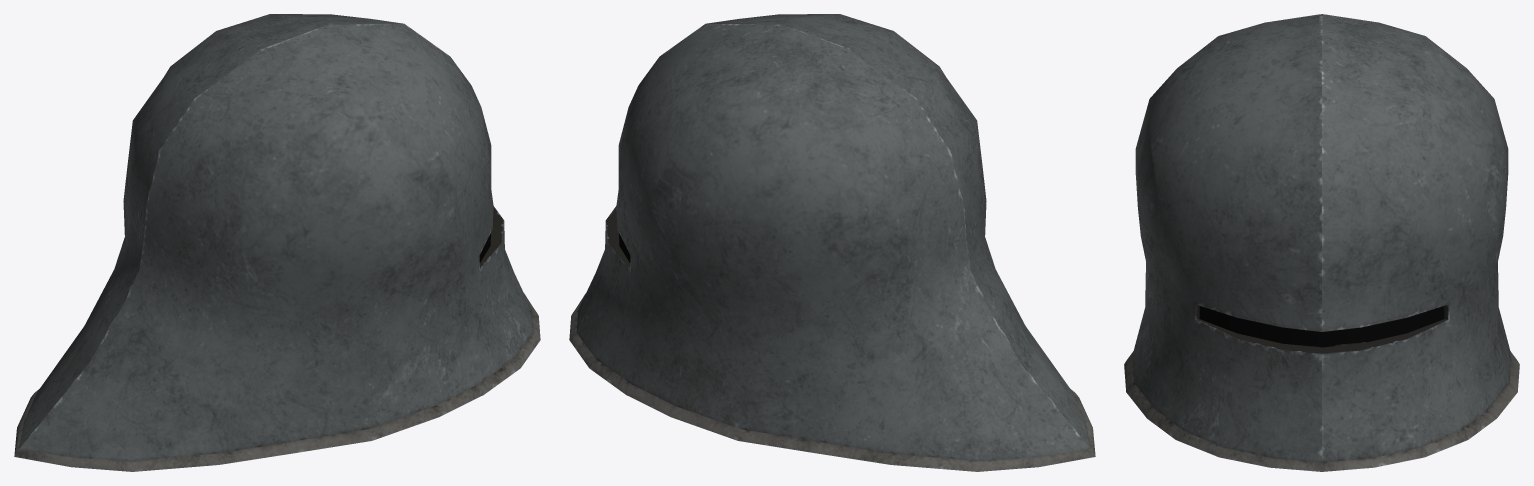
3 views of the same model, side by side, from view 1: azimuth 30°, elevation 25°; view 2: azimuth 150°, elevation 25°; view 3: azimuth 270°, elevation 25° (orthographic). The views are drawn at different scales.
Visible parts, largest first — view 1: Object_2; view 2: Object_2; view 3: Object_2.
Boxes of the visible parts, box(x1,y1,x2,y2) form: Object_2: box(14, 14, 540, 471); Object_2: box(569, 14, 1095, 471); Object_2: box(1124, 14, 1519, 471).
Size of the model in its own units: 2.15 by 1.43 by 1.38.
1 material, 1 textured.
